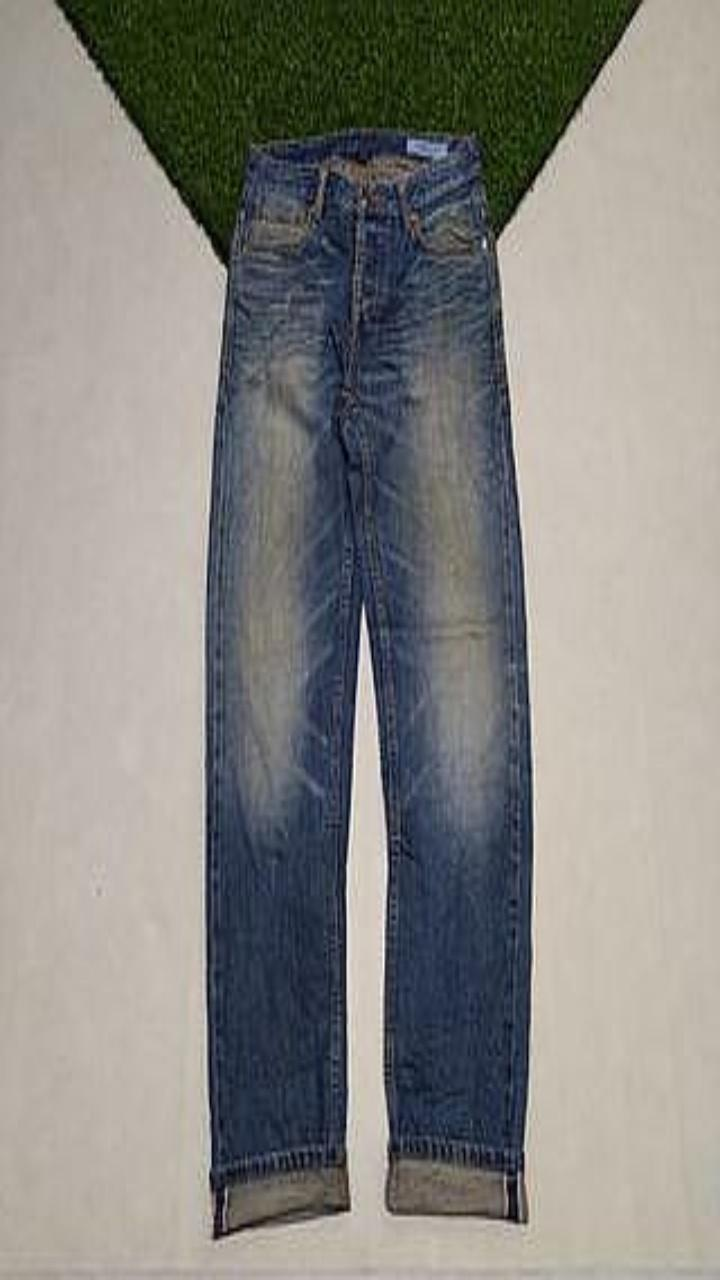Jeans: (205, 129, 531, 1236)
